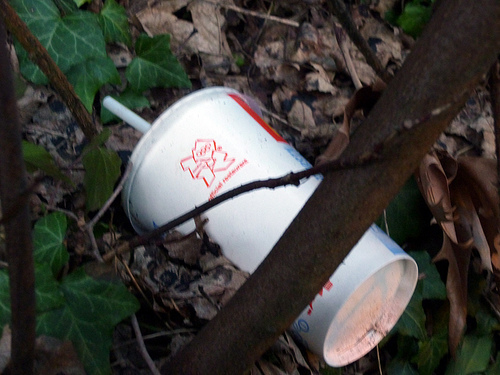litter: (102, 89, 420, 367)
